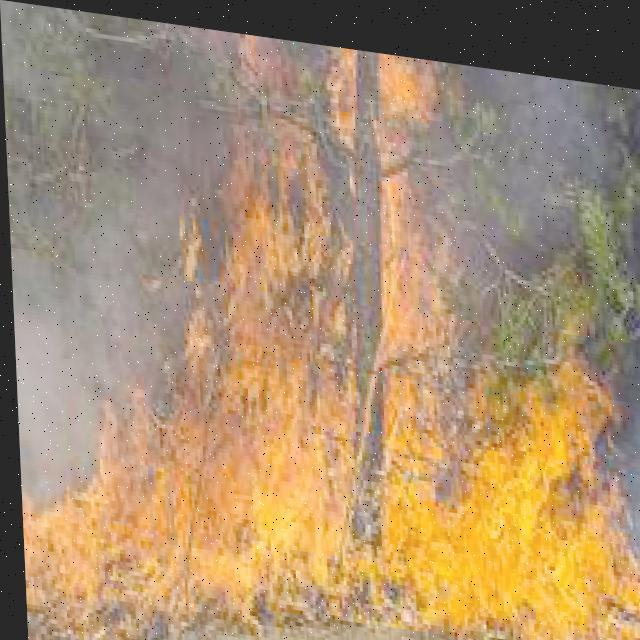Fire: (2, 4, 639, 639)
